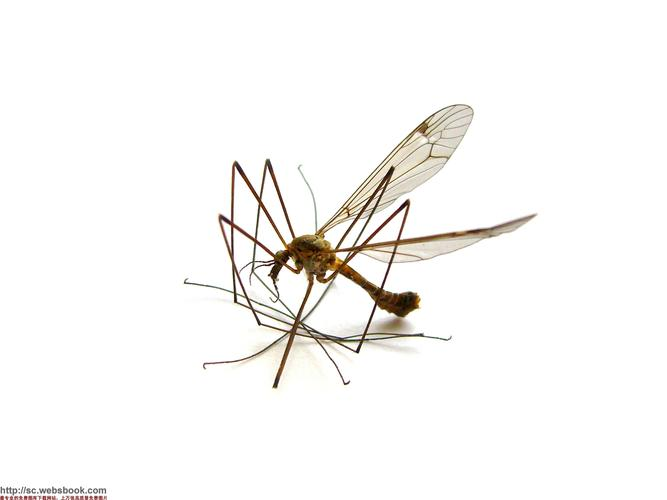Cecidomyiidae: (178, 104, 540, 390)
